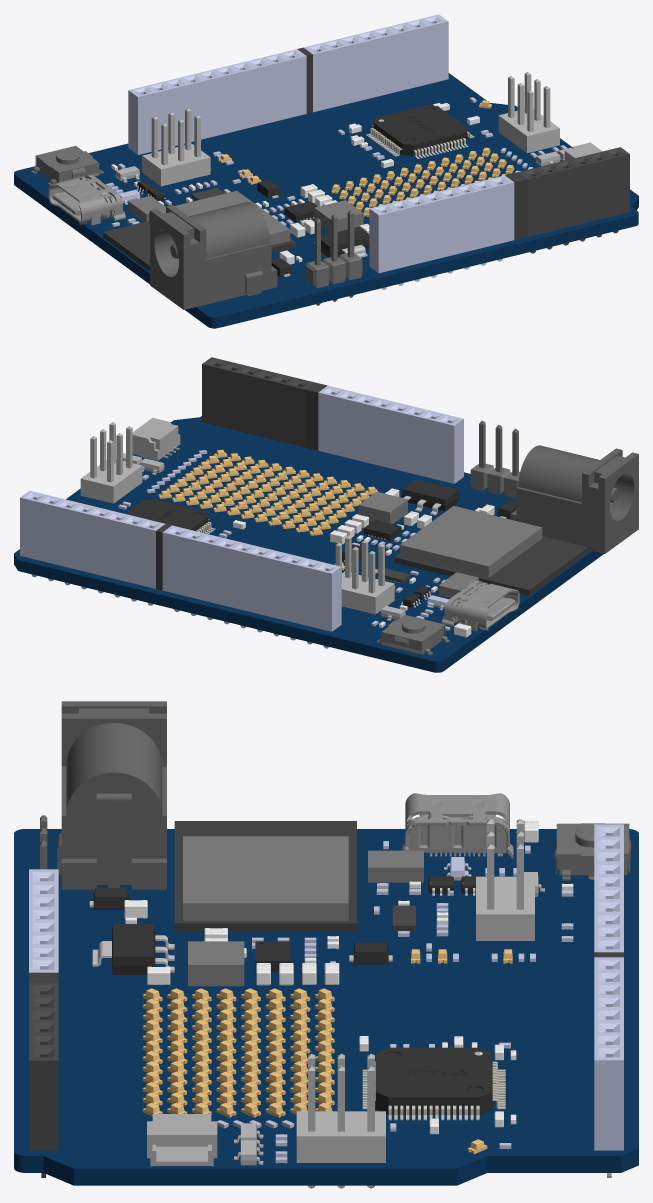
Rendered from arduino-uno-r4-wifi.glb.
3 renders of one model, top to bottom at view 1: azimuth 30°, elevation 25°; view 2: azimuth 150°, elevation 25°; view 3: azimuth 270°, elevation 25°, orthographic. The views are drawn at different scales.
Parts seen in each view (by area): view 1: pcb, digital-a, barrel-jack, power-header, digital-b, analog-header, ra4m1, led-matrix, esp-header, spi, esp32, usb-c (+9 smaller); view 2: pcb, digital-a, power-header, barrel-jack, esp32, digital-b, led-matrix, analog-header, spi, esp-header, usb-c, smd-power (+9 smaller); view 3: pcb, esp32, barrel-jack, led-matrix, ra4m1, spi, usb-c, digital-b, smd-power, analog-header, esp-header, digital-a (+10 smaller).
Boxes of the visible parts, x1=… form: pcb: x1=14, y1=73, x2=638, y2=328; digital-a: x1=128, y1=47, x2=312, y2=154; barrel-jack: x1=150, y1=202, x2=277, y2=309; power-header: x1=369, y1=172, x2=527, y2=289; digital-b: x1=303, y1=14, x2=448, y2=112; analog-header: x1=518, y1=147, x2=629, y2=253; ra4m1: x1=366, y1=105, x2=474, y2=159; led-matrix: x1=331, y1=147, x2=520, y2=216; esp-header: x1=142, y1=108, x2=210, y2=186; spi: x1=498, y1=72, x2=559, y2=153; esp32: x1=103, y1=191, x2=295, y2=271; usb-c: x1=48, y1=174, x2=125, y2=225; pcb: x1=14, y1=416, x2=603, y2=672; digital-a: x1=156, y1=524, x2=341, y2=648; power-header: x1=305, y1=382, x2=463, y2=483; barrel-jack: x1=511, y1=445, x2=638, y2=553; esp32: x1=394, y1=506, x2=587, y2=595; digital-b: x1=20, y1=490, x2=165, y2=605; led-matrix: x1=158, y1=449, x2=378, y2=535; analog-header: x1=202, y1=357, x2=313, y2=447; spi: x1=80, y1=422, x2=142, y2=503; esp-header: x1=335, y1=535, x2=394, y2=614; usb-c: x1=441, y1=580, x2=519, y2=630; smd-power: x1=330, y1=488, x2=494, y2=637; pcb: x1=14, y1=829, x2=638, y2=1185; esp32: x1=174, y1=821, x2=356, y2=931; barrel-jack: x1=57, y1=701, x2=166, y2=889; led-matrix: x1=142, y1=988, x2=334, y2=1117; ra4m1: x1=362, y1=1047, x2=505, y2=1120; spi: x1=296, y1=1053, x2=385, y2=1188; usb-c: x1=401, y1=793, x2=513, y2=858; digital-b: x1=594, y1=957, x2=623, y2=1177; smd-power: x1=124, y1=820, x2=573, y2=985; analog-header: x1=29, y1=982, x2=58, y2=1177; esp-header: x1=476, y1=819, x2=534, y2=940; digital-a: x1=594, y1=824, x2=623, y2=957.
Bounding box in the file's own units: 7.05 × 1.45 × 5.33.
